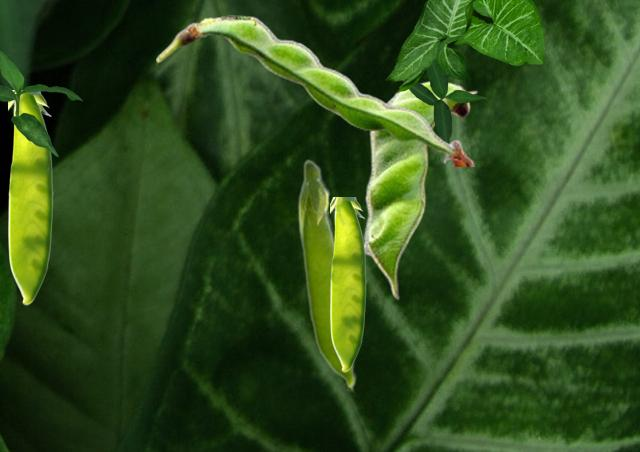pea: (156, 15, 474, 165), (362, 80, 477, 299), (297, 158, 356, 391), (8, 90, 52, 304), (330, 197, 365, 371)
